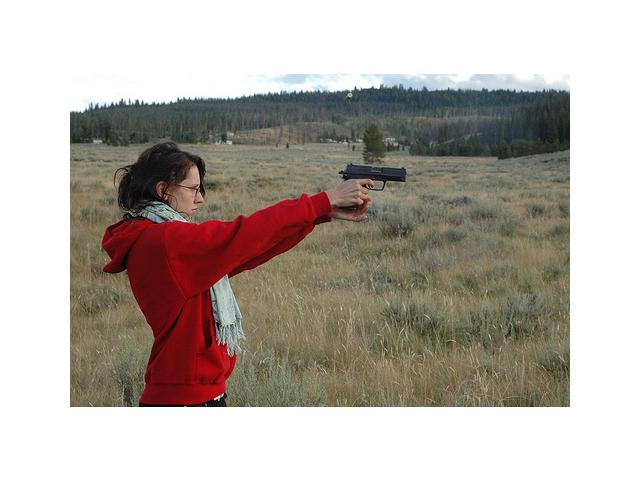pistol: (337, 163, 408, 214)
